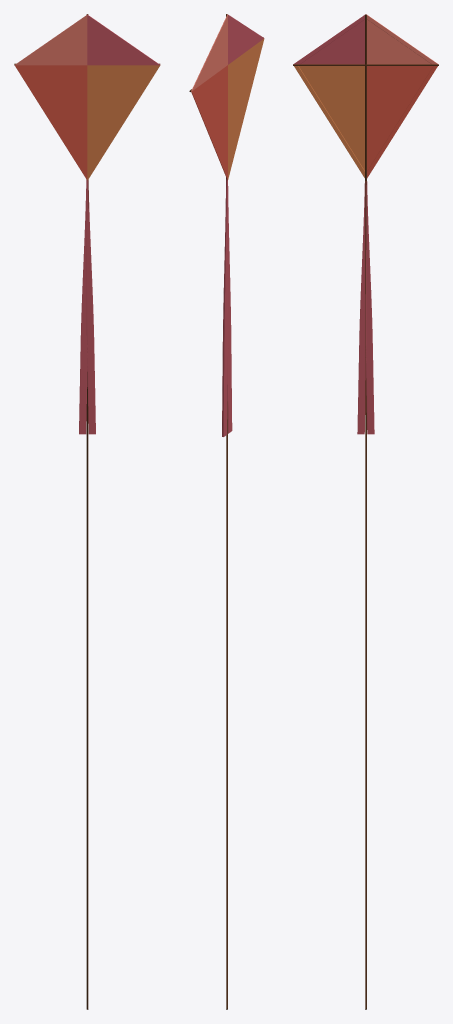
Rendered from 9. Kite Extruded.fbx.
The picture shows the model from 3 angles, left to right: view 1: azimuth 90°, elevation 25°; view 2: azimuth 150°, elevation 25°; view 3: azimuth 270°, elevation 25°; orthographic projection.
Visible parts, largest first — view 1: Bottom-left, Bottom-right, Top-left, Top-right, Rope, Stripe 1, Stripe 2; view 2: Bottom-right, Bottom-left, Rope, Stripe 2, Top-right, Top-left, Stripe 1; view 3: Bottom-right, Bottom-left, Top-left, Top-right, Stripe 1, Rope, Stripe 2.
Part boxes in pixels (x1=…): Bottom-left: x1=87, y1=65, x2=160, y2=180; Bottom-right: x1=15, y1=65, x2=87, y2=179; Top-left: x1=87, y1=14, x2=159, y2=65; Top-right: x1=15, y1=15, x2=87, y2=65; Rope: x1=86, y1=180, x2=88, y2=1009; Stripe 1: x1=86, y1=180, x2=95, y2=434; Stripe 2: x1=79, y1=180, x2=87, y2=434; Bottom-right: x1=191, y1=65, x2=227, y2=180; Bottom-left: x1=228, y1=39, x2=264, y2=179; Rope: x1=226, y1=401, x2=227, y2=1009; Stripe 2: x1=222, y1=180, x2=228, y2=436; Top-right: x1=191, y1=14, x2=227, y2=91; Top-left: x1=228, y1=14, x2=264, y2=64; Stripe 1: x1=226, y1=179, x2=232, y2=433; Bottom-right: x1=367, y1=66, x2=437, y2=178; Bottom-left: x1=294, y1=66, x2=364, y2=177; Top-left: x1=293, y1=14, x2=365, y2=64; Top-right: x1=366, y1=14, x2=437, y2=64; Stripe 1: x1=357, y1=181, x2=366, y2=434; Rope: x1=365, y1=180, x2=366, y2=1009; Stripe 2: x1=365, y1=181, x2=374, y2=434.
Size of the model in its own units: 1.32 by 600 by 79.71.
